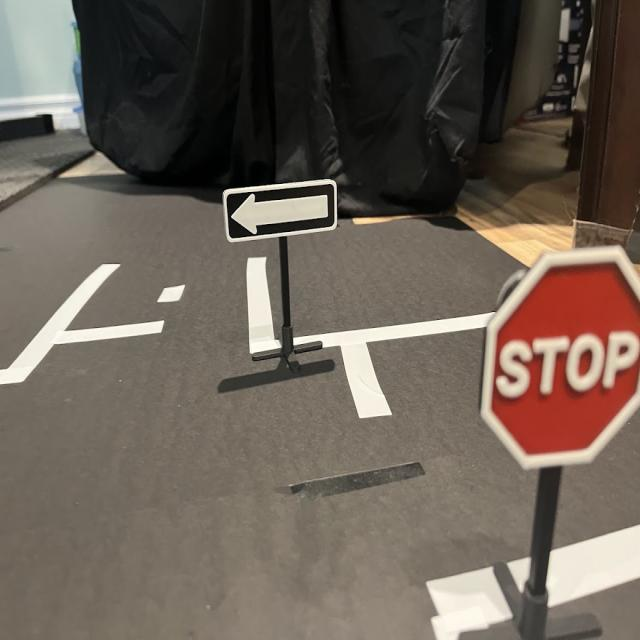sign_oneway_left: (224, 179, 338, 242)
sign_stop: (485, 244, 640, 466)
